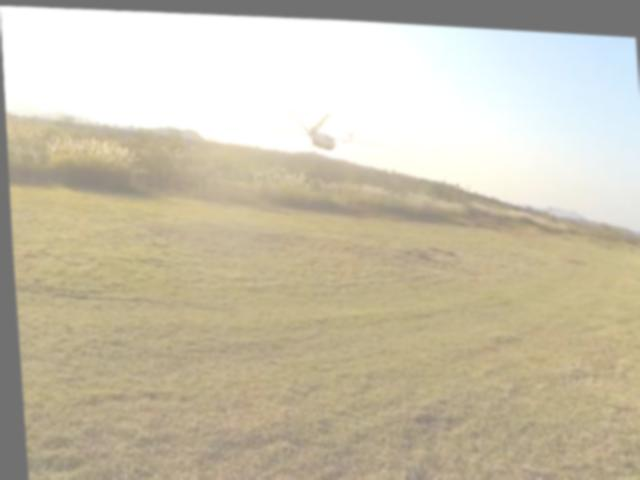uav: (252, 87, 400, 168)
